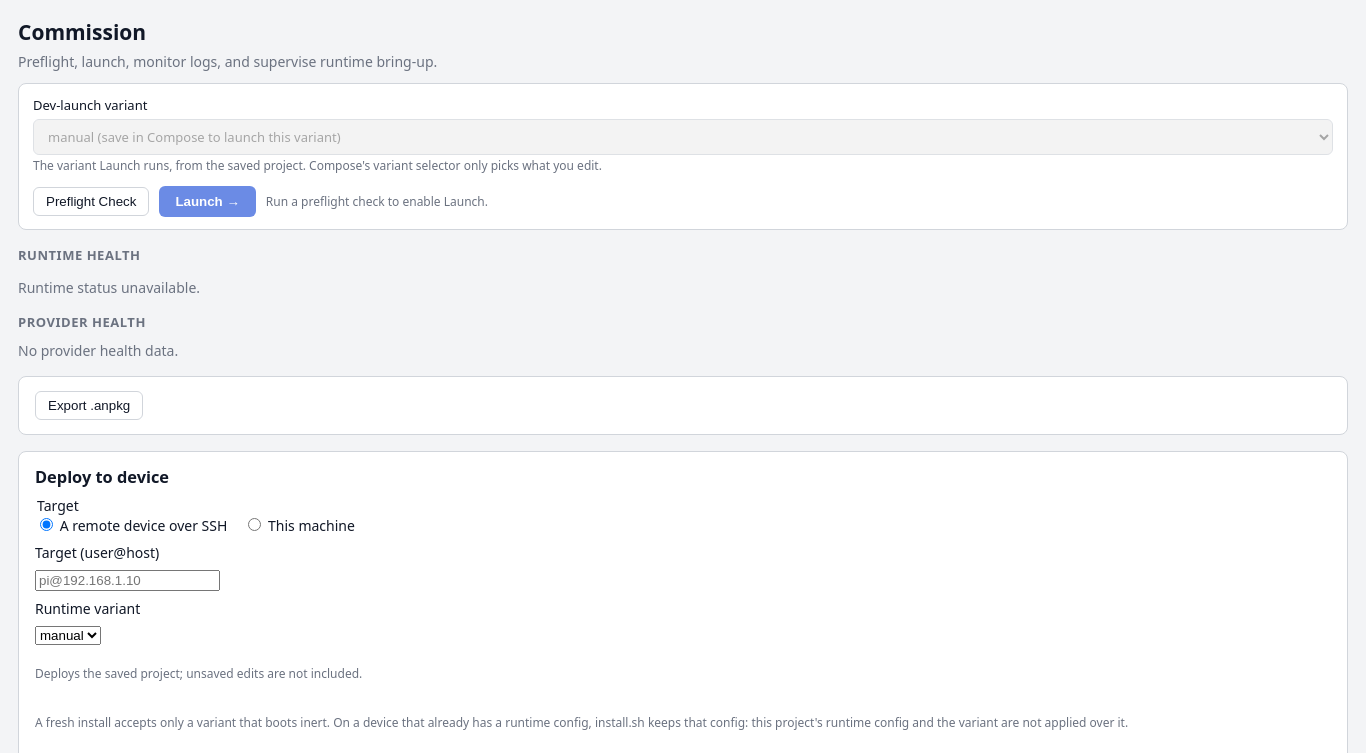
Commission.svelte › counts a skipped preflight check as skipped, never as passed
Click the button "Preflight Check".
click(91, 202)  # box [33,187,149,216]
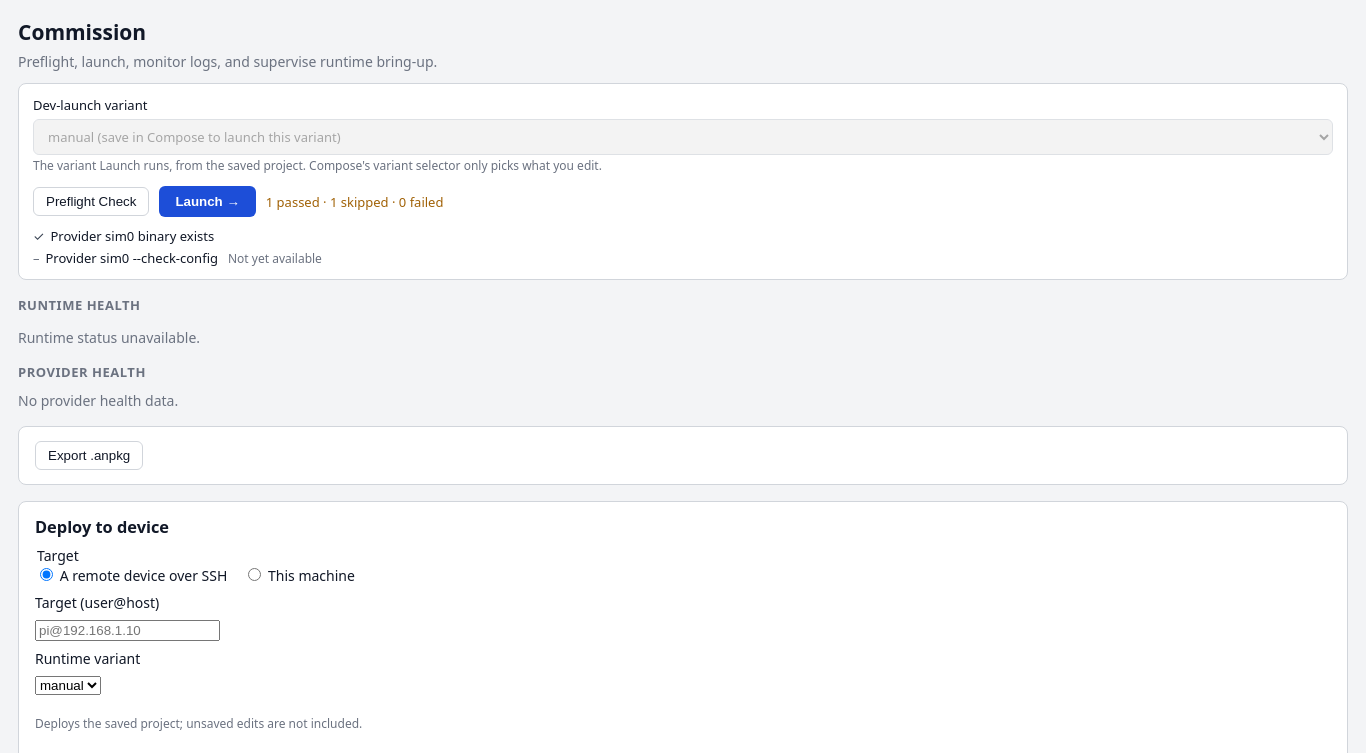
Result: the text "1 passed · 1 skipped · 0 failed" is shown at [266,192,444,210]
Result: the text "Not yet available" is shown at [228,250,322,267]
Result: the button "Launch →" is enabled at [159,186,256,217]
